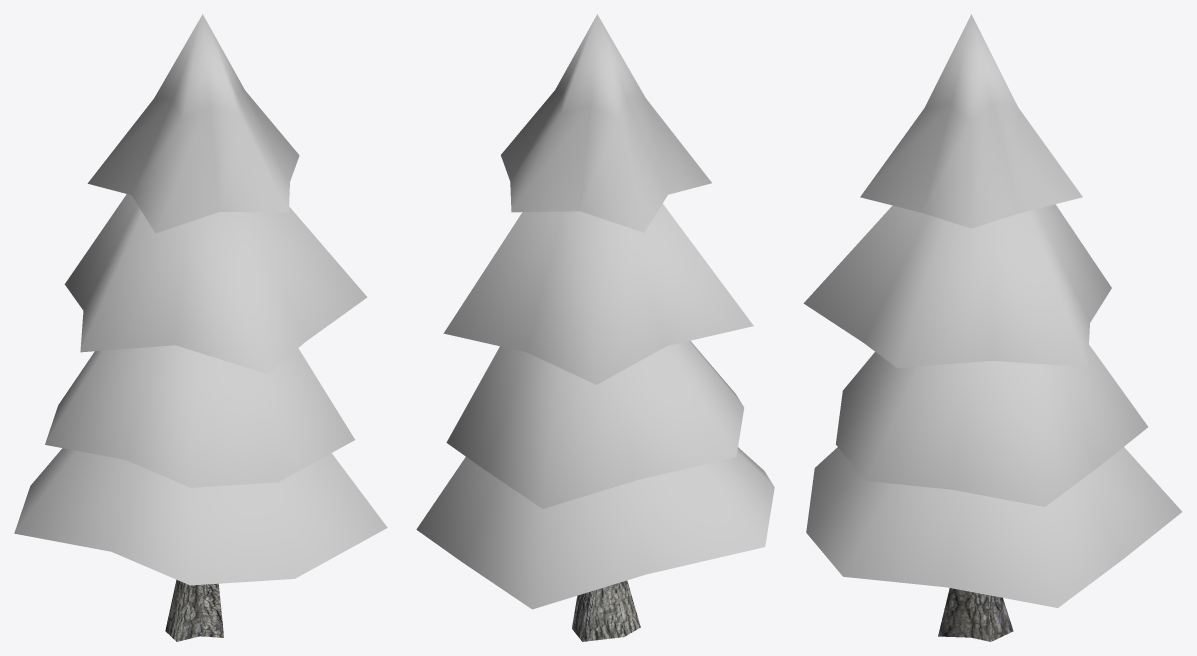
Rendered from tree_01.FBX.
3 views of the same model, side by side, from view 1: azimuth 30°, elevation 25°; view 2: azimuth 150°, elevation 25°; view 3: azimuth 270°, elevation 25° (orthographic).
Parts seen in each view (by area): view 1: Cylinder004, Cylinder001; view 2: Cylinder004, Cylinder001; view 3: Cylinder004, Cylinder001.
Boxes of the visible parts, <box> form: Cylinder004: <box>14,14,387,585</box>; Cylinder001: <box>165,579,223,641</box>; Cylinder004: <box>416,14,774,609</box>; Cylinder001: <box>572,580,640,641</box>; Cylinder004: <box>803,14,1181,607</box>; Cylinder001: <box>938,588,1013,641</box>.
Bounding box in the file's own units: 70.56 × 72.17 × 130.
